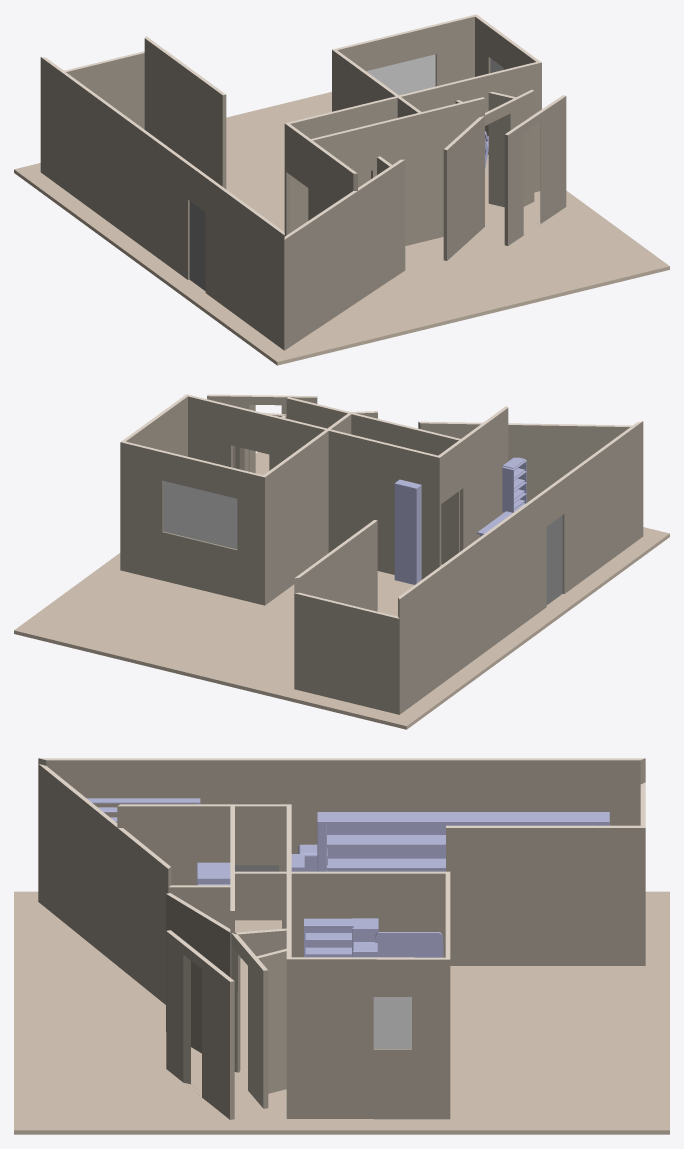
The model's file is Sep27at2-48PM-poly.fbx.
The picture shows the model from 3 angles, top to bottom: view 1: azimuth 30°, elevation 25°; view 2: azimuth 150°, elevation 25°; view 3: azimuth 270°, elevation 25°; orthographic projection. The views are drawn at different scales.
Parts seen in each view (by area): view 1: wall_14.wall_13.wall_12.wall_11.wall_0.wall_1.wall_2.wall_3., floor_0, wall_16, window_0.window_1, door_0; view 2: wall_14.wall_13.wall_12.wall_11.wall_0.wall_1.wall_2.wall_3., floor_0, wall_16, object_1.object_2.object_3.object_4.object_5.object_6.object, window_0.window_1, door_0; view 3: wall_14.wall_13.wall_12.wall_11.wall_0.wall_1.wall_2.wall_3., floor_0, object_1.object_2.object_3.object_4.object_5.object_6.object, wall_16, window_0.window_1.
Boxes of the visible parts, bbox=[...] form: wall_14.wall_13.wall_12.wall_11.wall_0.wall_1.wall_2.wall_3.: bbox=[40, 16, 566, 350]; floor_0: bbox=[14, 92, 669, 365]; wall_16: bbox=[41, 14, 565, 239]; window_0.window_1: bbox=[366, 54, 503, 95]; door_0: bbox=[189, 201, 205, 290]; wall_14.wall_13.wall_12.wall_11.wall_0.wall_1.wall_2.wall_3.: bbox=[120, 396, 643, 714]; floor_0: bbox=[14, 452, 669, 729]; wall_16: bbox=[120, 394, 642, 618]; object_1.object_2.object_3.object_4.object_5.object_6.object: bbox=[394, 457, 526, 584]; window_0.window_1: bbox=[163, 481, 237, 549]; door_0: bbox=[546, 515, 562, 604]; wall_14.wall_13.wall_12.wall_11.wall_0.wall_1.wall_2.wall_3.: bbox=[38, 758, 645, 1119]; floor_0: bbox=[14, 891, 669, 1134]; object_1.object_2.object_3.object_4.object_5.object_6.object: bbox=[87, 798, 609, 957]; wall_16: bbox=[39, 758, 645, 981]; window_0.window_1: bbox=[373, 997, 411, 1048].
Size of the model in its own units: 11.57 by 3.71 by 13.44.
